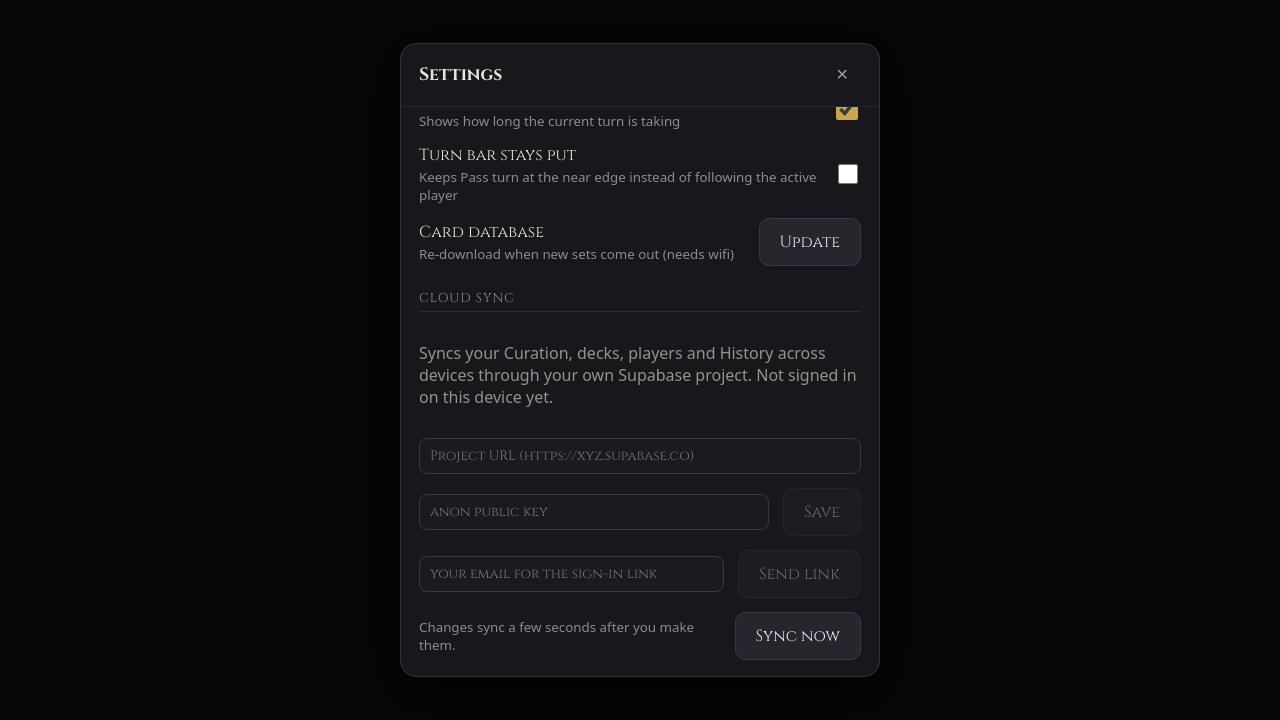
Scenario: "Sync now" syncs all three, shows one status line and re-reads the lists
The image size is (1280, 720).
(page scrolled)
Click the button "Sync now" at (798, 636), box [734,612,861,660]
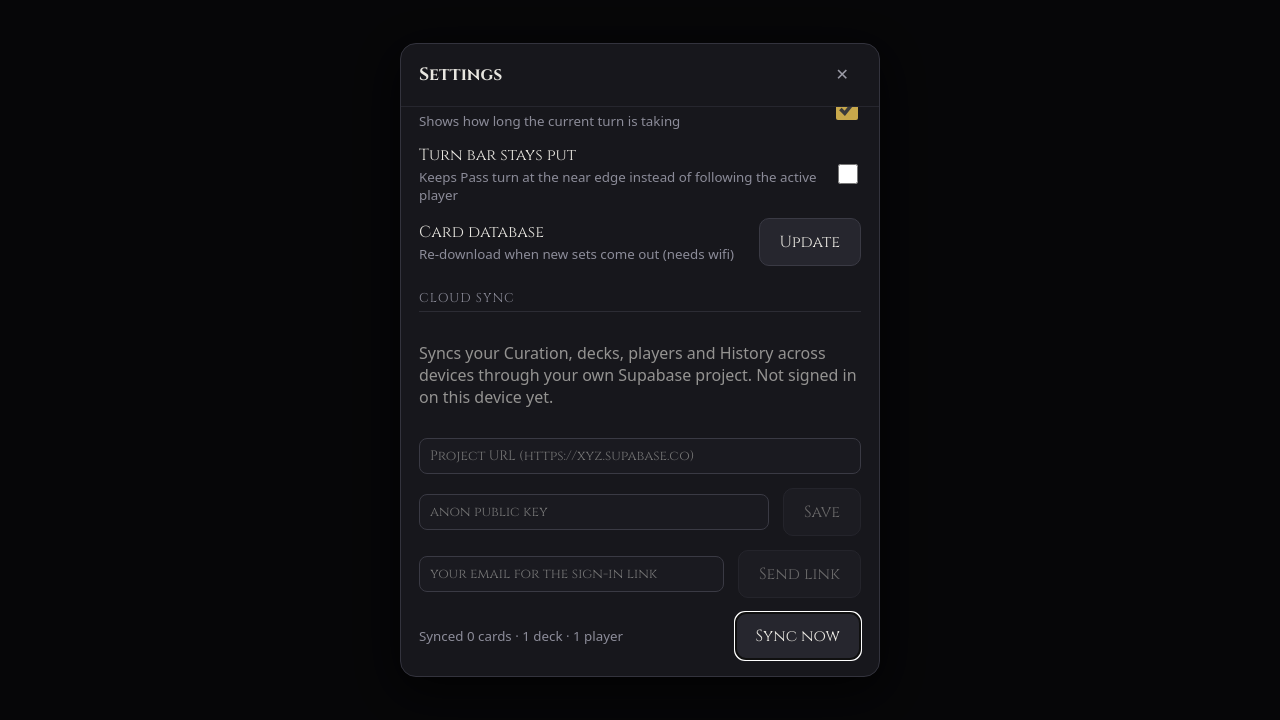
Expected: the text "Synced 0 cards · 1 deck · 1 player" is shown, [419,627,623,645]
